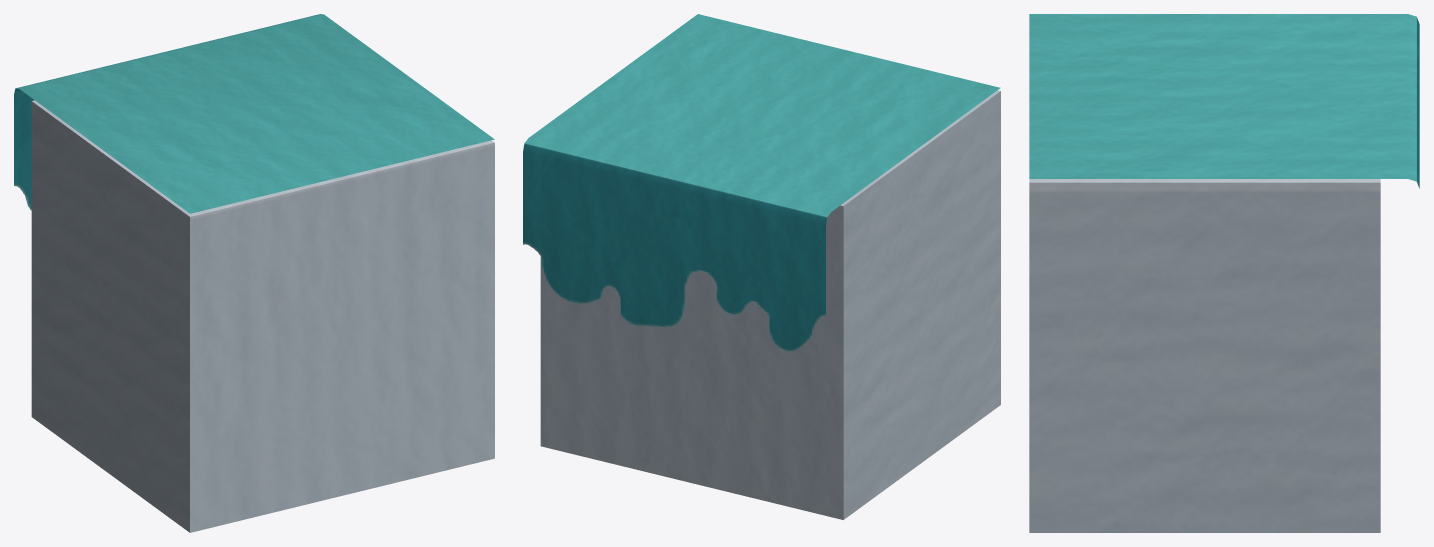
The model's file is Tile1_4.fbx.
3 views of the same model, side by side, from view 1: azimuth 30°, elevation 25°; view 2: azimuth 150°, elevation 25°; view 3: azimuth 270°, elevation 25° (orthographic). The views are drawn at different scales.
Visible parts, largest first — view 1: Tile1_4; view 2: Tile1_4; view 3: Tile1_4.
Boxes of the visible parts, x1,y1,x2,y2 form: Tile1_4: (14,14,494,532); Tile1_4: (523,14,1000,519); Tile1_4: (1029,14,1419,532).
Bounding box in the file's own units: 1 × 1 × 1.
1 material, 1 textured.
